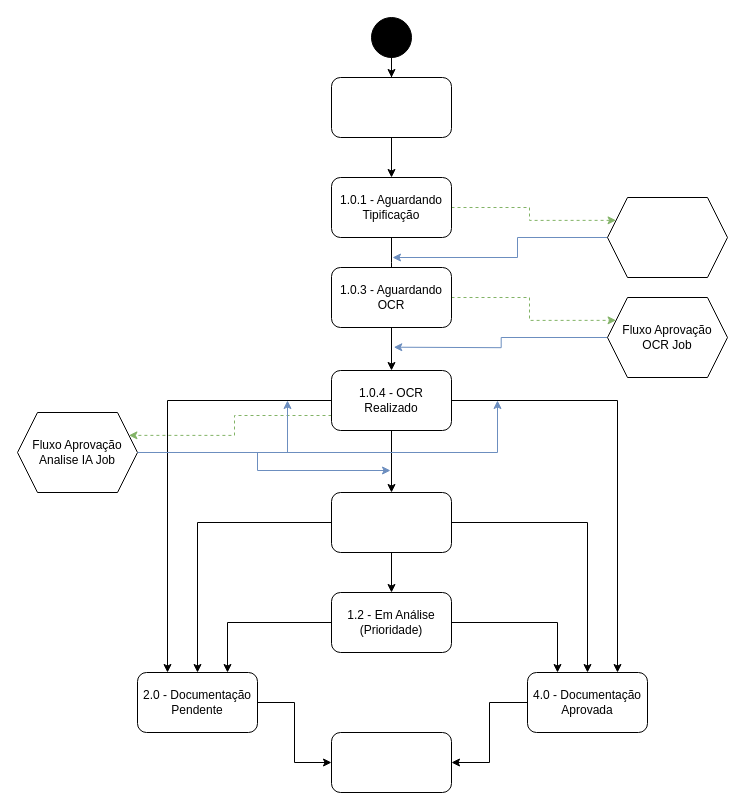
This 745x810 diagram has some shape labels left out. Here are the shapes that lost their labels. From the top down, the centre of each, then its label:
point 391,107: 1.0 - Novo
point 667,237: Fluxo Aprovação Tipificação Job
point 391,522: 1.1 - Em Análise
point 391,762: 5.0 - Aluno
